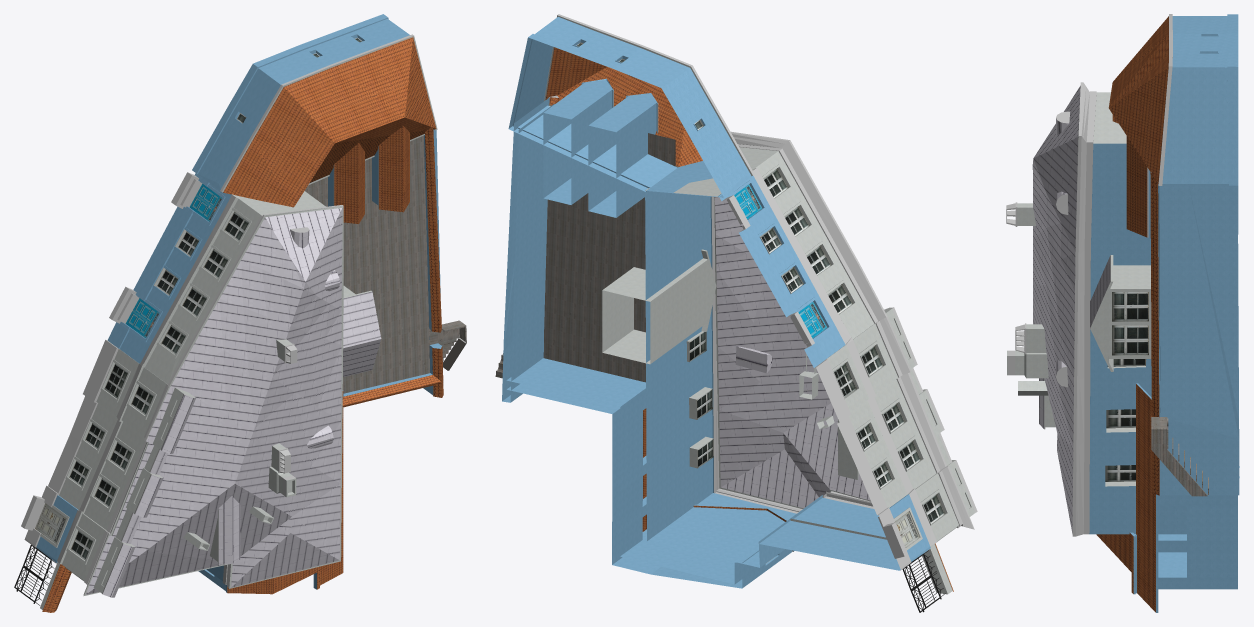
The model's file is Uus_34.obj.
3 renders of one model, left to right at view 1: azimuth 30°, elevation 25°; view 2: azimuth 150°, elevation 25°; view 3: azimuth 270°, elevation 25°, orthographic. The views are drawn at different scales.
Parts seen in each view (by area): view 1: uus_tn_34; view 2: uus_tn_34; view 3: uus_tn_34.
Part boxes in pixels (x1,y1,x2,y2): uus_tn_34: (14,14,466,612); uus_tn_34: (495,14,977,612); uus_tn_34: (1006,14,1239,612).
Bounding box in the file's own units: 27.71 × 32.14 × 11.52.
